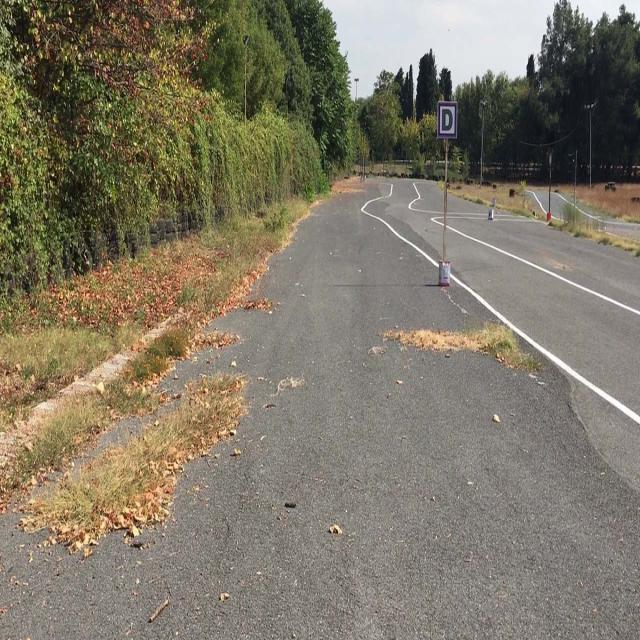durak: (438, 102, 456, 139)
